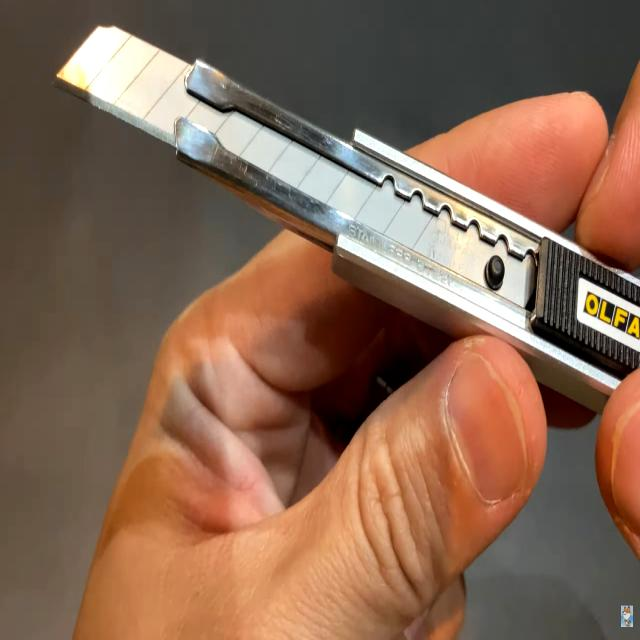cutter: (25, 0, 638, 640)
